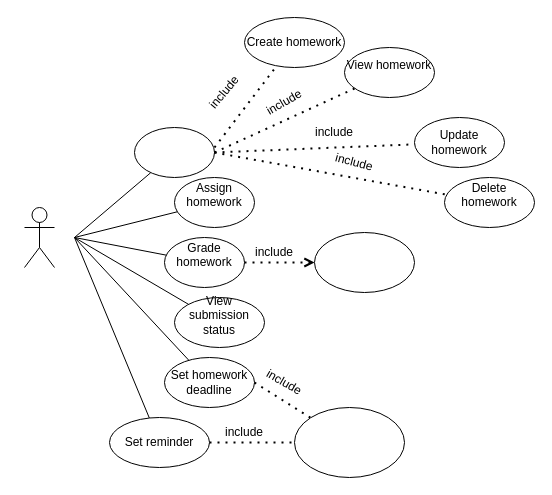
Image size: 552x495. Some labels were removed from this diagram. Here are the shapes that lost their labels. From the top down, the centre of each, then its label:
At point (174, 152): "manage homework".
At point (39, 237): "Lecturer".
At point (364, 262): "Comments".
At point (349, 442): "Send notification".
